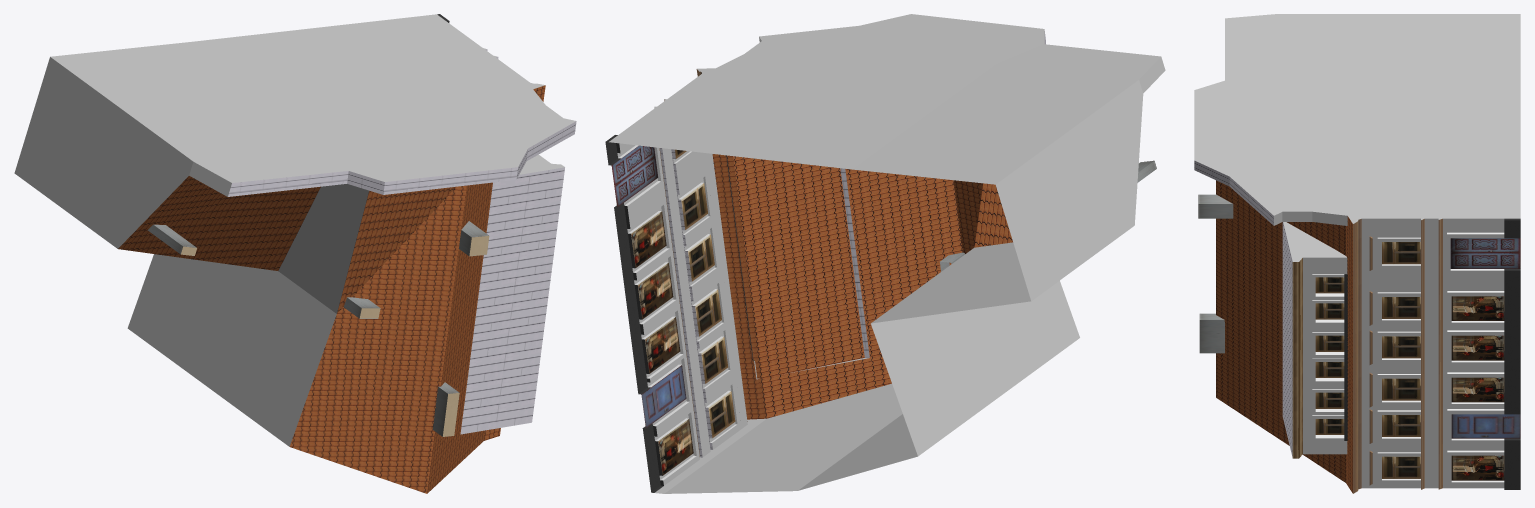
Rendered from Suur-Karia_14.obj.
The picture shows the model from 3 angles, left to right: view 1: azimuth 30°, elevation 25°; view 2: azimuth 150°, elevation 25°; view 3: azimuth 270°, elevation 25°; orthographic projection. The views are drawn at different scales.
Visible parts, largest first — view 1: Suur_Karia_14; view 2: Suur_Karia_14; view 3: Suur_Karia_14.
Boxes of the visible parts, left/top/right/bottom form: Suur_Karia_14: left=14, top=14, right=576, bottom=493; Suur_Karia_14: left=605, top=14, right=1165, bottom=493; Suur_Karia_14: left=1194, top=14, right=1520, bottom=493.
Size of the model in its own units: 21.93 by 19.02 by 16.85.
